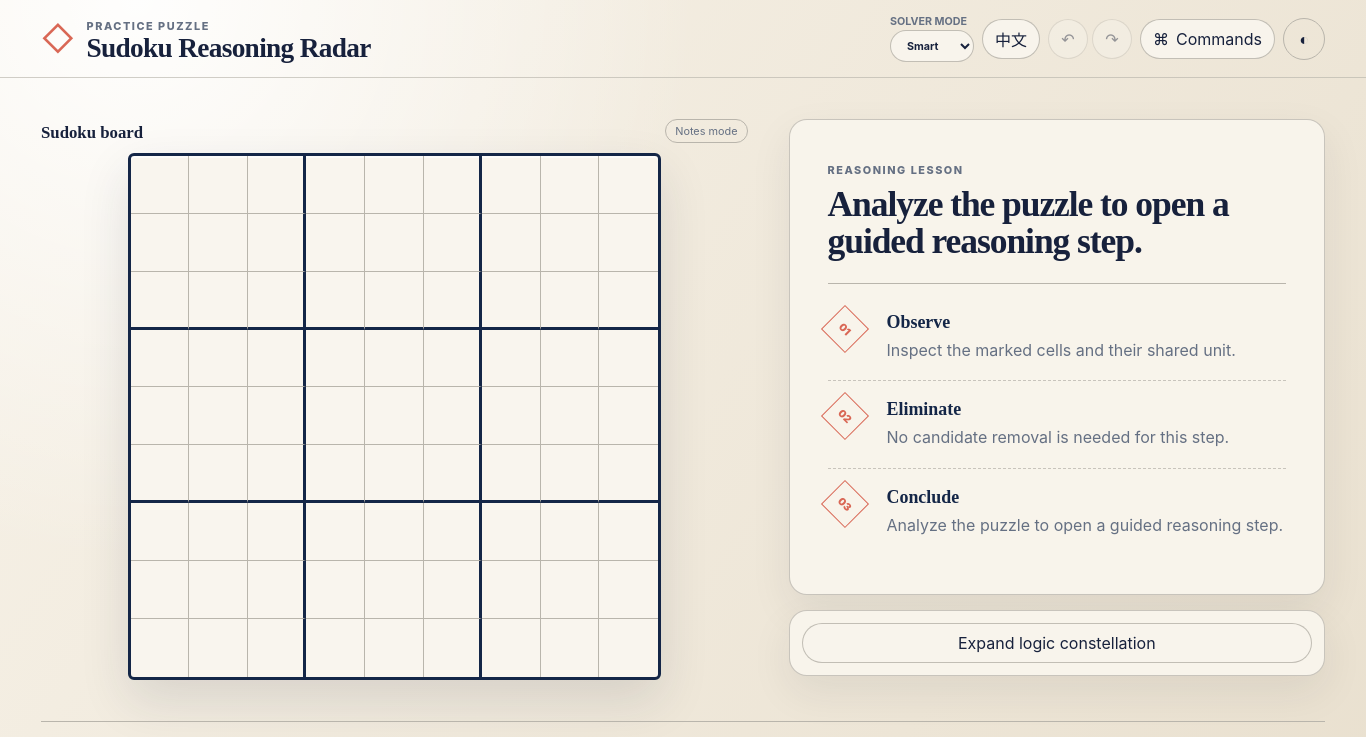
Test: keeps the board usable and reports a recoverable storage failure
Click the button named "row 1, column 1, empty": click(160, 184) [131,180,188,188]
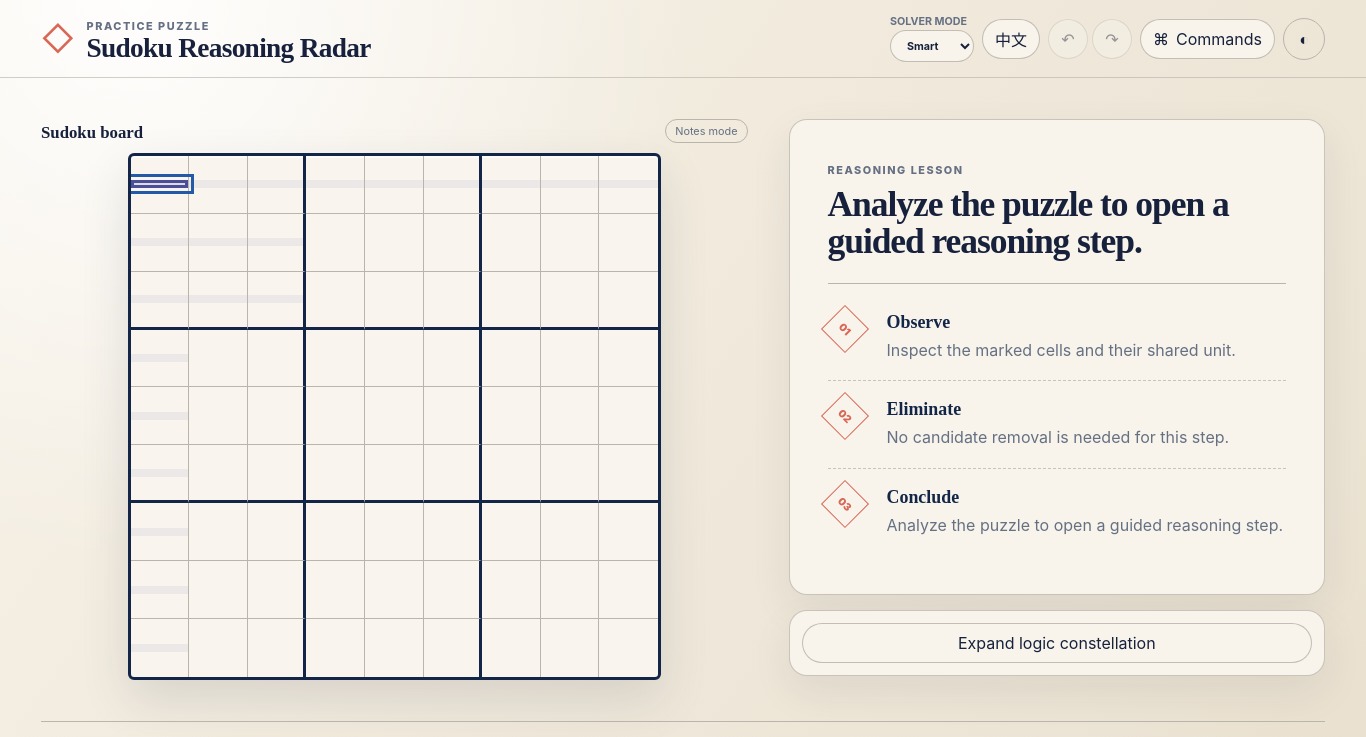
Type keys "7"
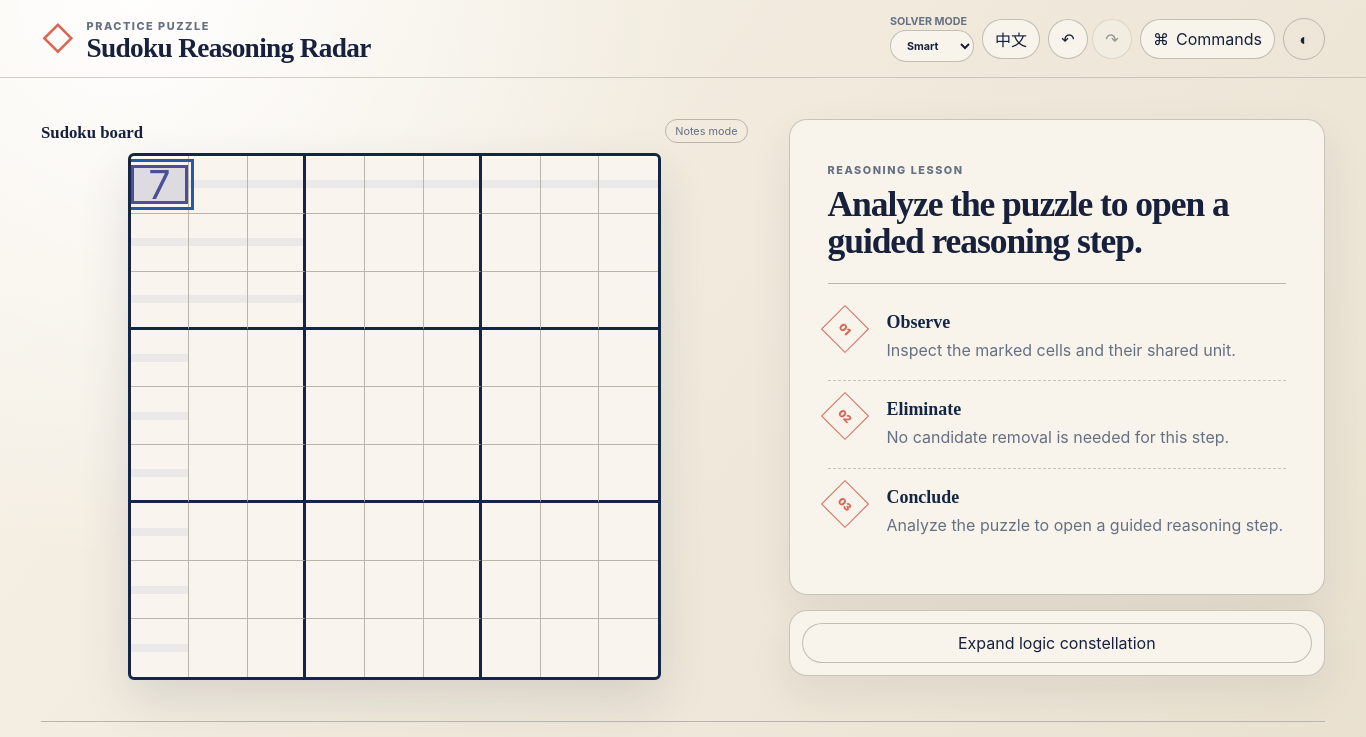
Now the button named "row 1, column 1, empty" reads "7", box [131,165,188,204]
